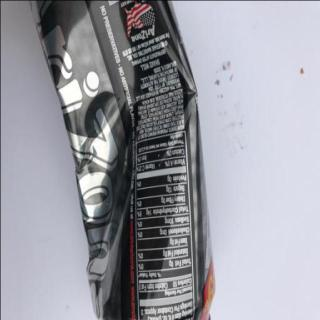Anorganik: (27, 0, 217, 317)
